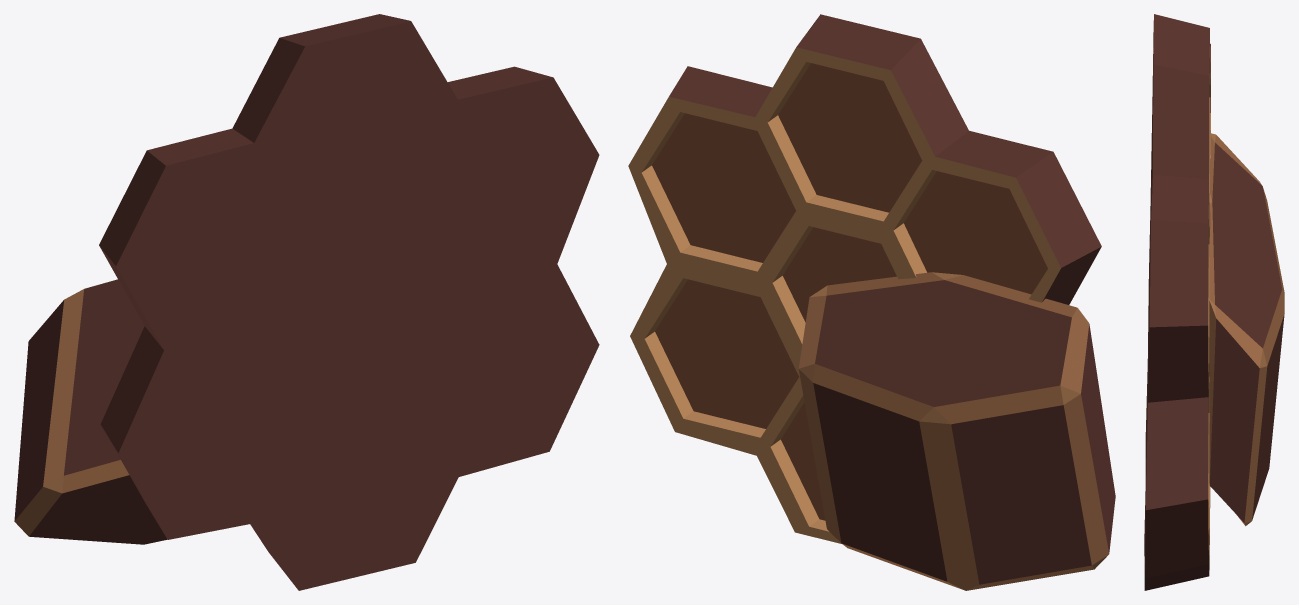
Rendered from icon_wax_and_honey.fbx.
3 renders of one model, left to right at view 1: azimuth 30°, elevation 25°; view 2: azimuth 150°, elevation 25°; view 3: azimuth 270°, elevation 25°, orthographic. The views are drawn at different scales.
Visible parts, largest first — view 1: icon_honey, icon_wax; view 2: icon_honey, icon_wax; view 3: icon_honey, icon_wax.
Part boxes in pixels (left/top/right/bottom): icon_honey: left=99, top=14, right=599, bottom=590; icon_wax: left=14, top=279, right=167, bottom=544; icon_honey: left=628, top=14, right=1101, bottom=544; icon_wax: left=798, top=272, right=1115, bottom=590; icon_honey: left=1144, top=14, right=1210, bottom=590; icon_wax: left=1209, top=133, right=1284, bottom=526.
Size of the model in its own units: 37.06 by 35.55 by 8.58.
